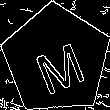M_N: (26, 27, 86, 92)
